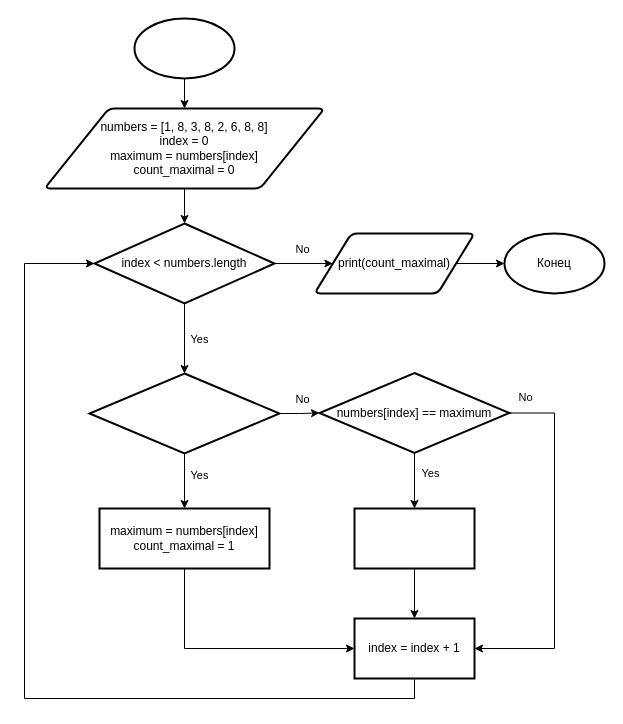
This 623x724 diagram has some shape labels left out. Here are the shapes that lost their labels. From the top down, the centre of each, then its label:
the point at 184,48: Старт
the point at 184,413: numbers[index] > maximum
the point at 414,538: count_maximal = count_maximal + 1
